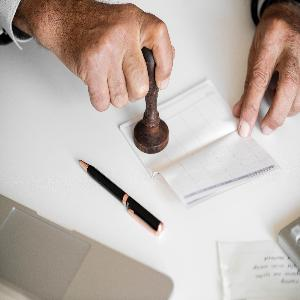pen: (75, 157, 166, 235)
